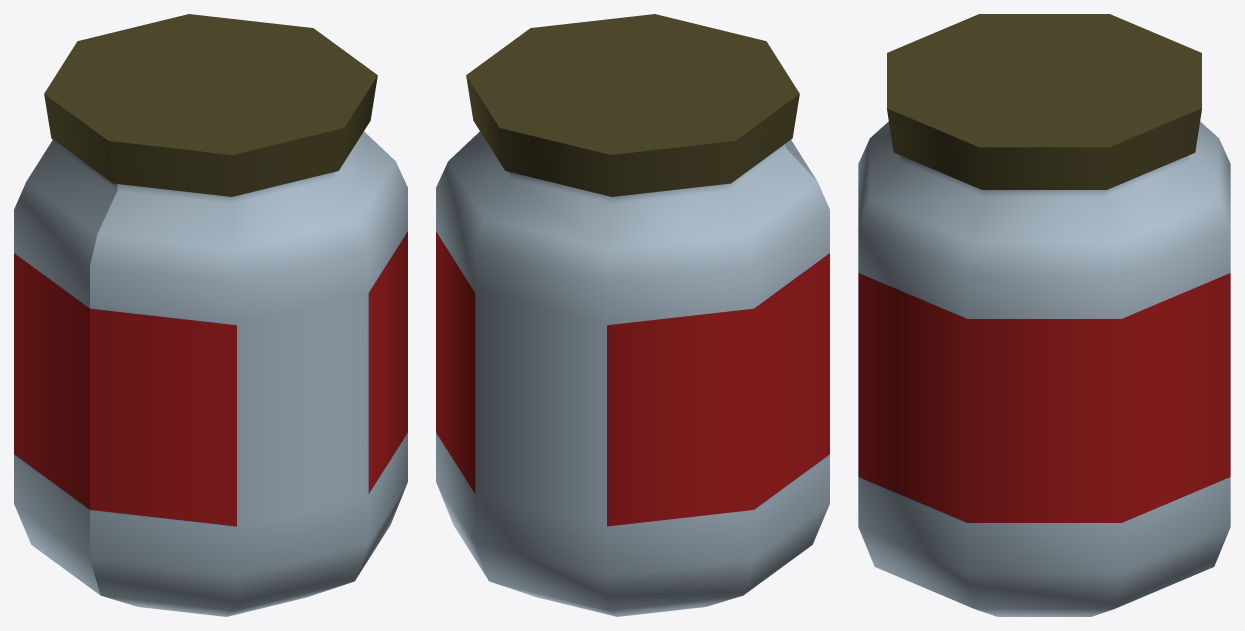
File: BloodJar.fbx
The picture shows the model from 3 angles, left to right: view 1: azimuth 30°, elevation 25°; view 2: azimuth 150°, elevation 25°; view 3: azimuth 270°, elevation 25°; orthographic projection.
Visible parts, largest first — view 1: BloodJar; view 2: BloodJar; view 3: BloodJar.
Boxes of the visible parts, box(x1,y1,x2,y2) form: BloodJar: box(14, 14, 407, 616); BloodJar: box(436, 14, 829, 616); BloodJar: box(858, 14, 1230, 616).
Size of the model in its own units: 231 by 335 by 231.
